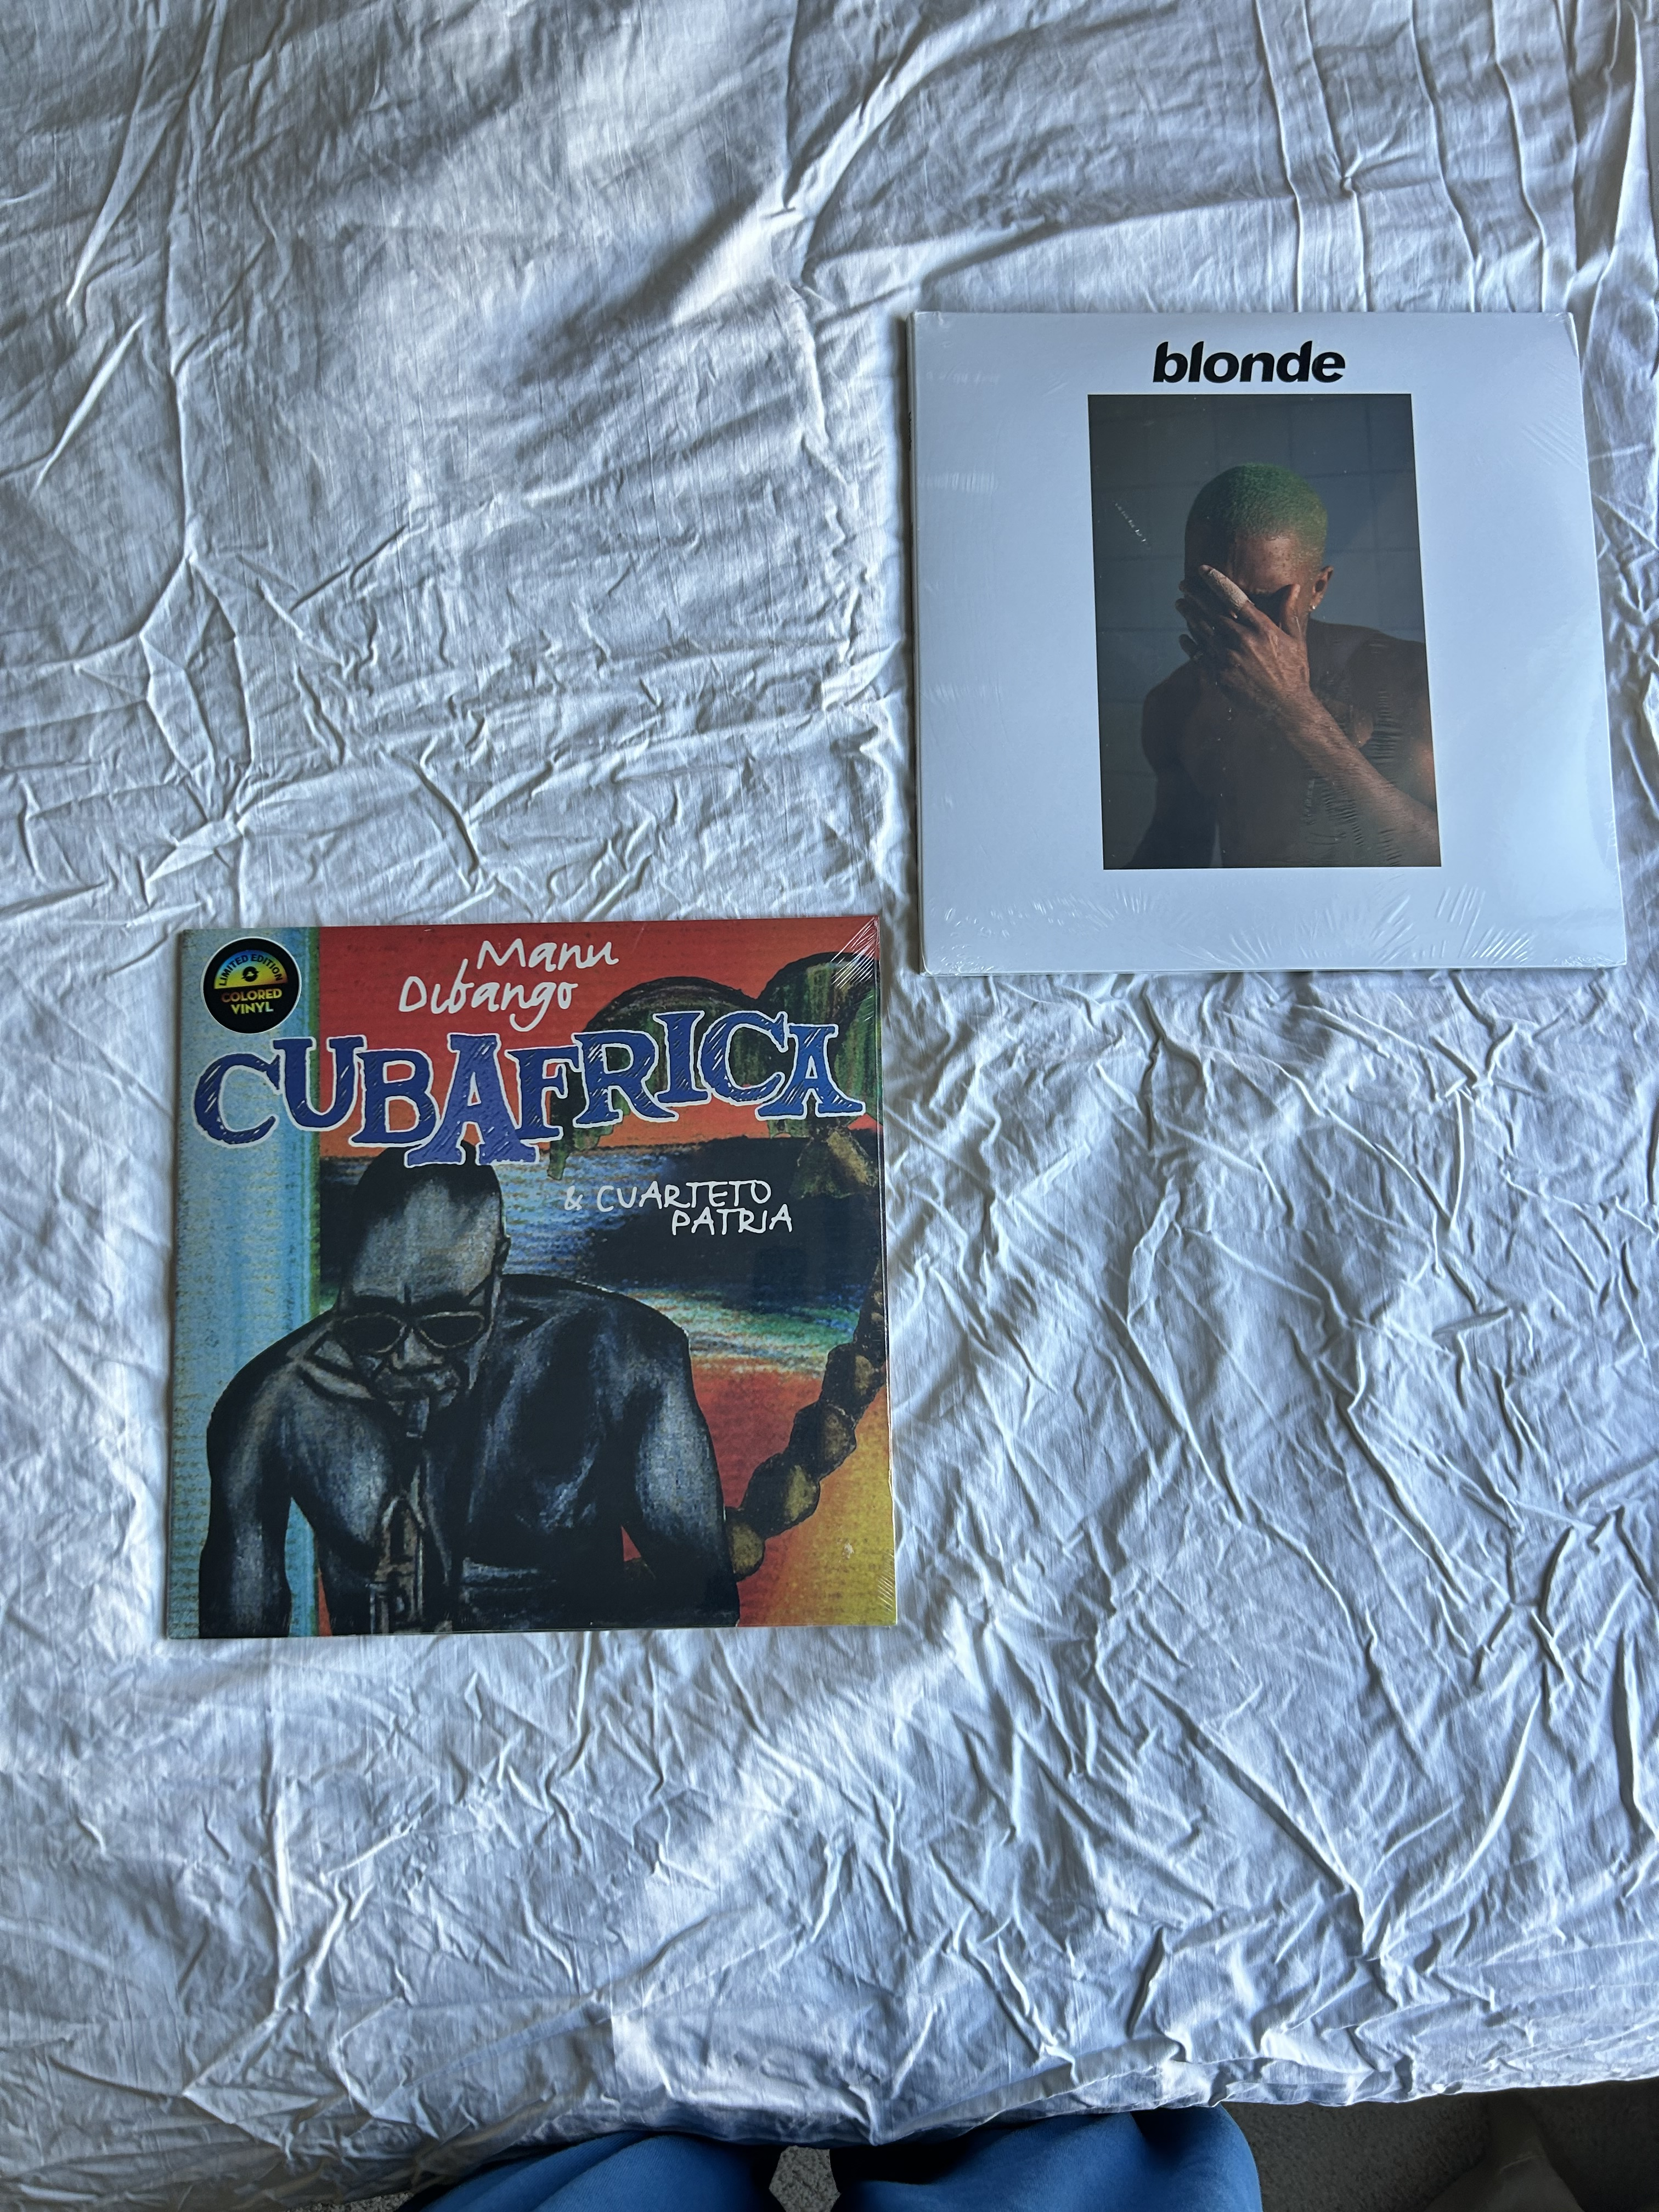frank ocean_blonde: (901, 317, 1605, 993)
manu dibango_cubafrica: (166, 914, 899, 1642)
